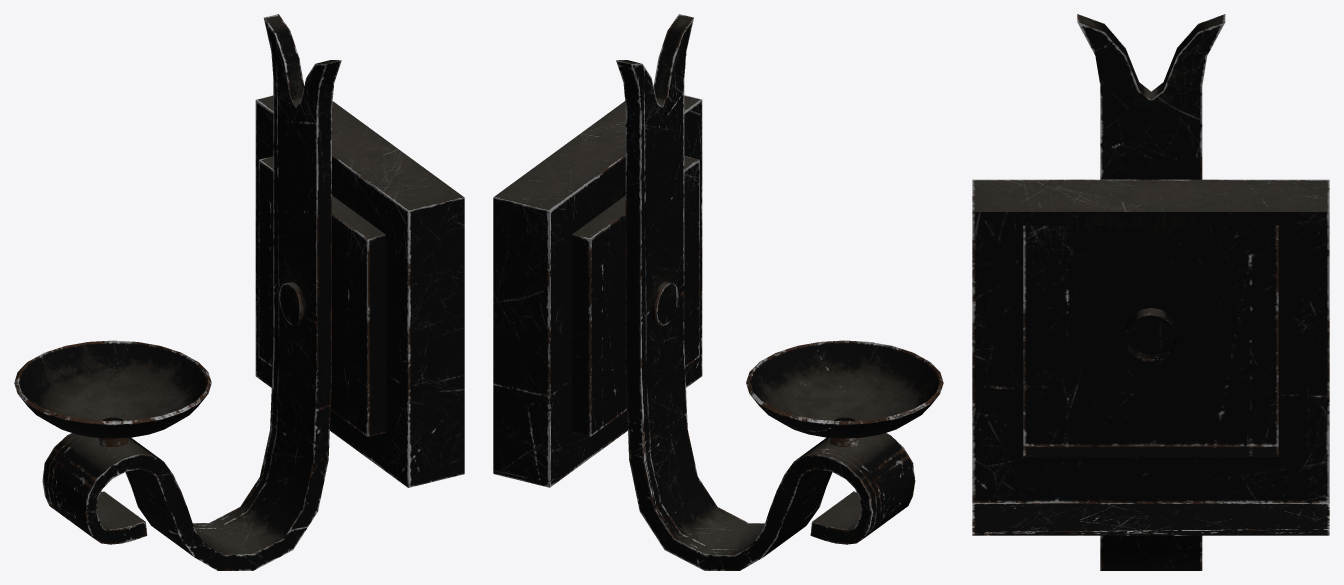
Rendered from wall_lamp.fbx.
The picture shows the model from 3 angles, left to right: view 1: azimuth 30°, elevation 25°; view 2: azimuth 150°, elevation 25°; view 3: azimuth 270°, elevation 25°; orthographic projection. The views are drawn at different scales.
Visible parts, largest first — view 1: Object_3; view 2: Object_3; view 3: Object_3.
Part boxes in pixels (x1,y1,x2,y2): Object_3: (14, 14, 464, 570); Object_3: (493, 14, 943, 570); Object_3: (972, 14, 1329, 570).
Bounding box in the file's own units: 17.03 × 22.47 × 12.46.
Materials: 1 (1 with a texture image).
